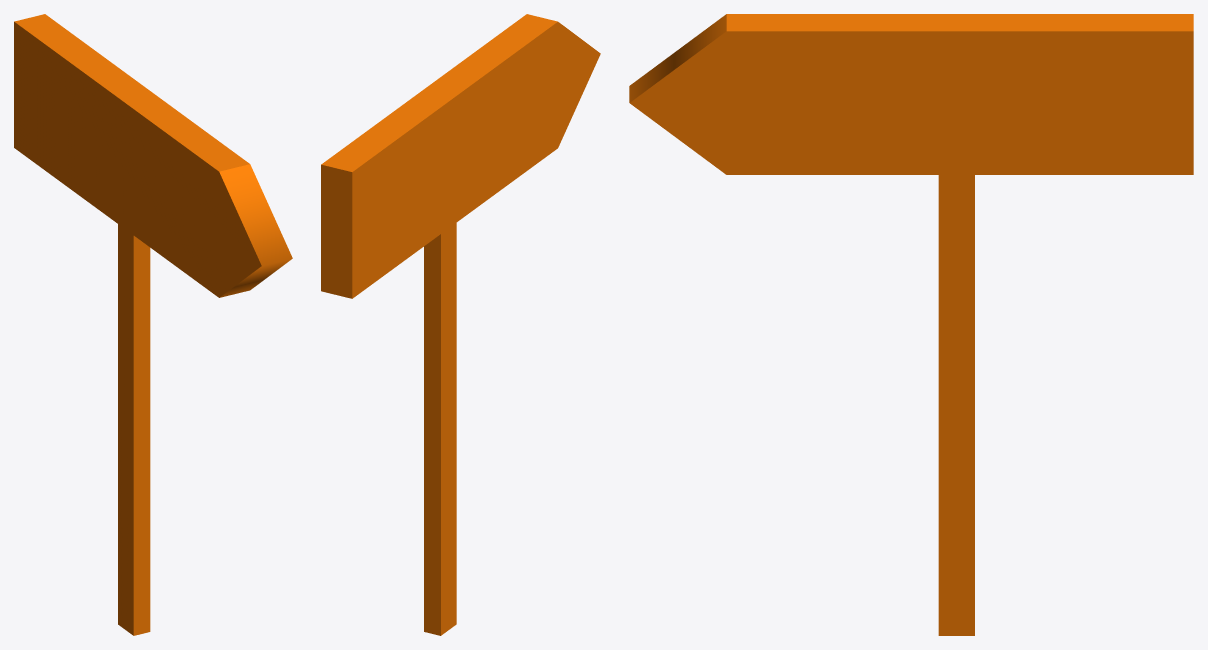
Rendered from Cartel CR.obj.
3 views of the same model, side by side, from view 1: azimuth 30°, elevation 25°; view 2: azimuth 150°, elevation 25°; view 3: azimuth 270°, elevation 25° (orthographic). The views are drawn at different scales.
Parts seen in each view (by area): view 1: Tablon Cartel1, Cartel1 Palo; view 2: Tablon Cartel1, Cartel1 Palo; view 3: Tablon Cartel1, Cartel1 Palo.
Part boxes in pixels (bbox=[...]): Tablon Cartel1: bbox=[14, 14, 292, 297]; Cartel1 Palo: bbox=[118, 224, 150, 635]; Tablon Cartel1: bbox=[321, 14, 600, 298]; Cartel1 Palo: bbox=[424, 223, 456, 635]; Tablon Cartel1: bbox=[629, 14, 1193, 174]; Cartel1 Palo: bbox=[938, 175, 974, 635].
Bounding box in the file's own units: 4.45 × 73.19 × 61.5.
